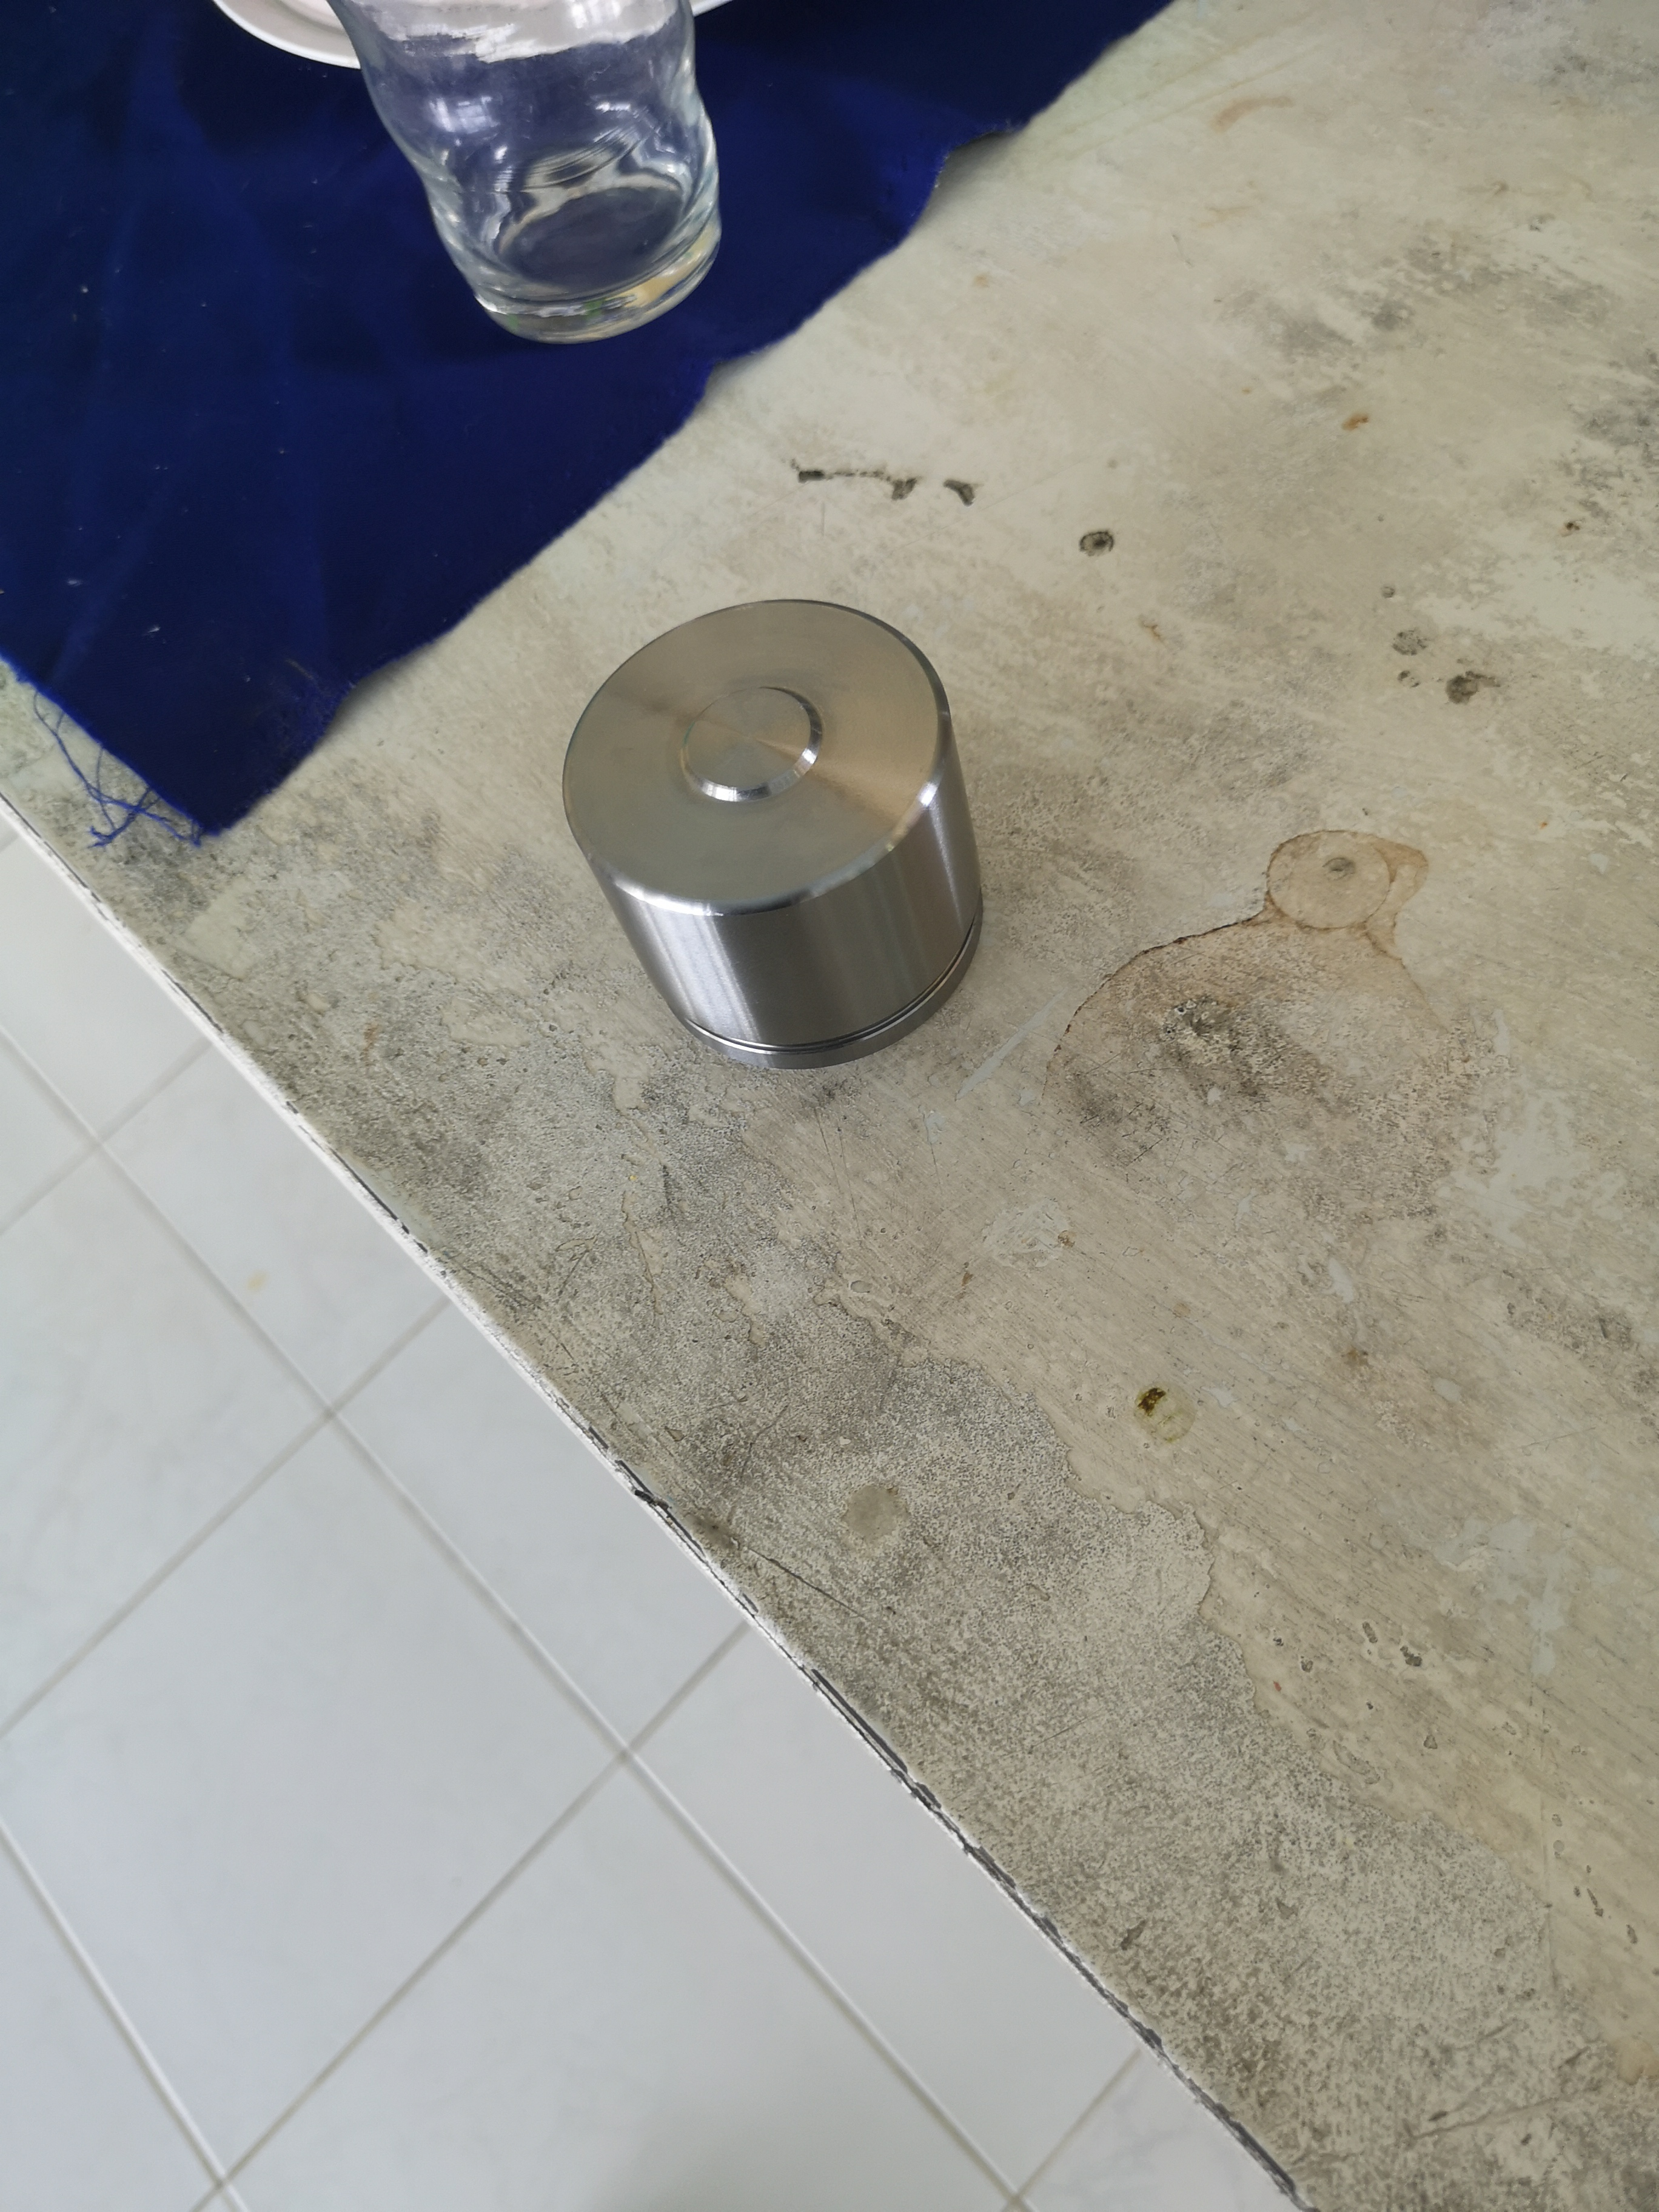ลูกสูบดิสเบรค: (549, 582, 1025, 1057)
